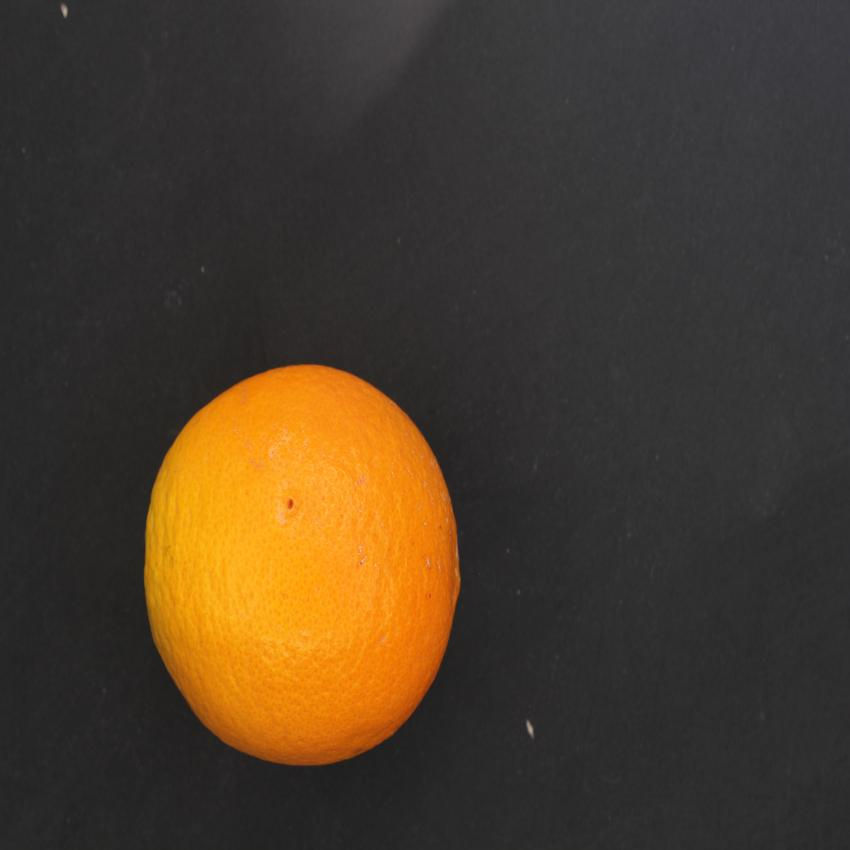Mal estado: (135, 355, 479, 787)
